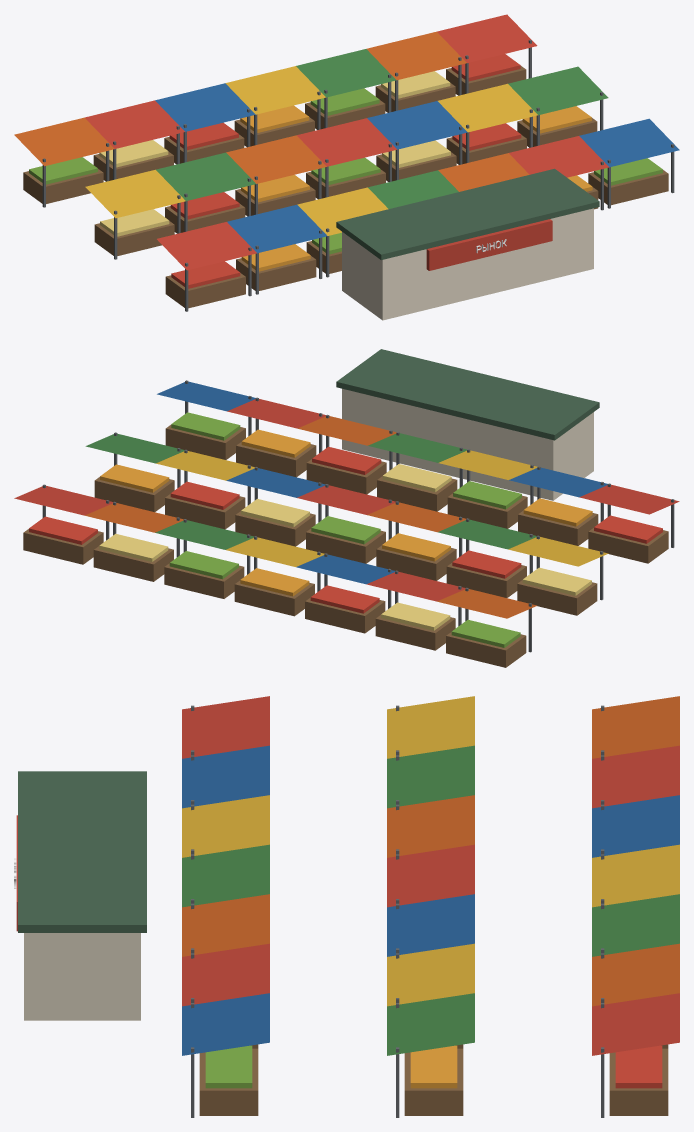
The model's file is market.glb.
The picture shows the model from 3 angles, top to bottom: view 1: azimuth 30°, elevation 25°; view 2: azimuth 150°, elevation 25°; view 3: azimuth 270°, elevation 25°; orthographic projection. The views are drawn at different scales.
Visible parts, largest first — view 1: market; view 2: market; view 3: market.
Boxes of the visible parts, bbox=[...] form: market: bbox=[14, 14, 679, 320]; market: bbox=[14, 349, 679, 667]; market: bbox=[16, 696, 679, 1117].
Bounding box in the file's own units: 28 × 3.7 × 22.74.
